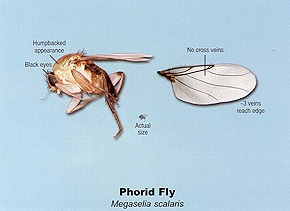phorid fly: (17, 29, 154, 145)
